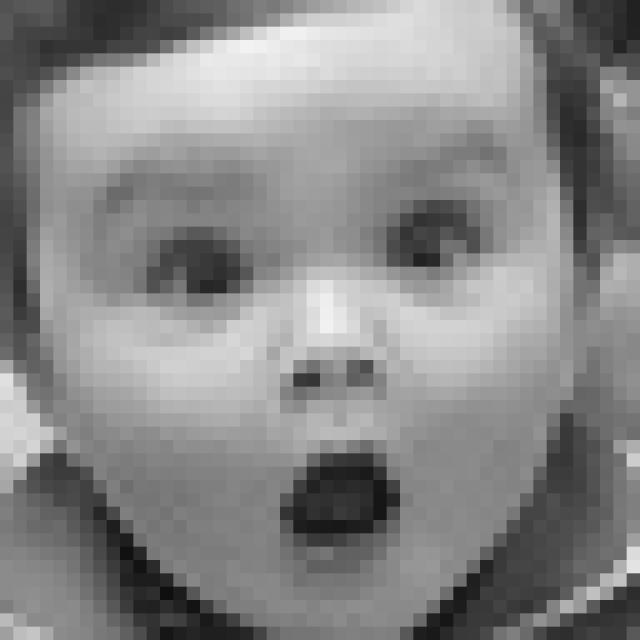surprise: (95, 139, 526, 570)
